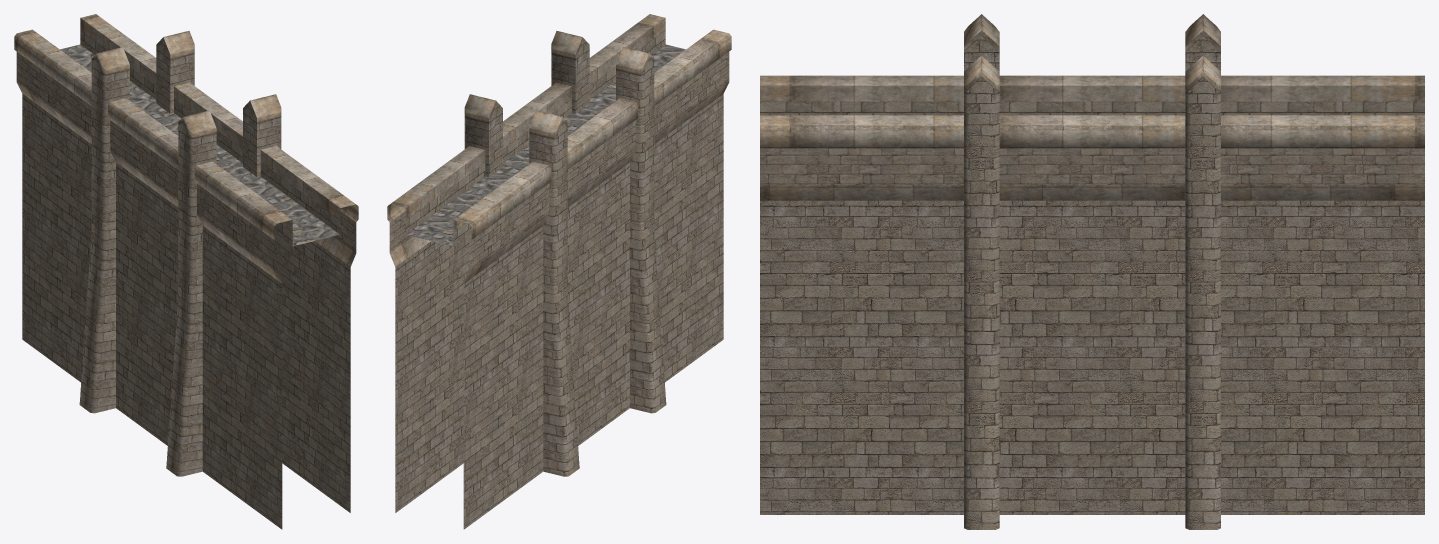
The model's file is mw_city_walls_01.FBX.
3 views of the same model, side by side, from view 1: azimuth 30°, elevation 25°; view 2: azimuth 150°, elevation 25°; view 3: azimuth 270°, elevation 25° (orthographic). The views are drawn at different scales.
Parts seen in each view (by area): view 1: mw_city_walls_01; view 2: mw_city_walls_01; view 3: mw_city_walls_01.
Part boxes in pixels (bbox=[...]): mw_city_walls_01: bbox=[14, 14, 358, 529]; mw_city_walls_01: bbox=[387, 14, 731, 529]; mw_city_walls_01: bbox=[760, 14, 1424, 529].
Bounding box in the file's own units: 528 × 1529 × 2044.
